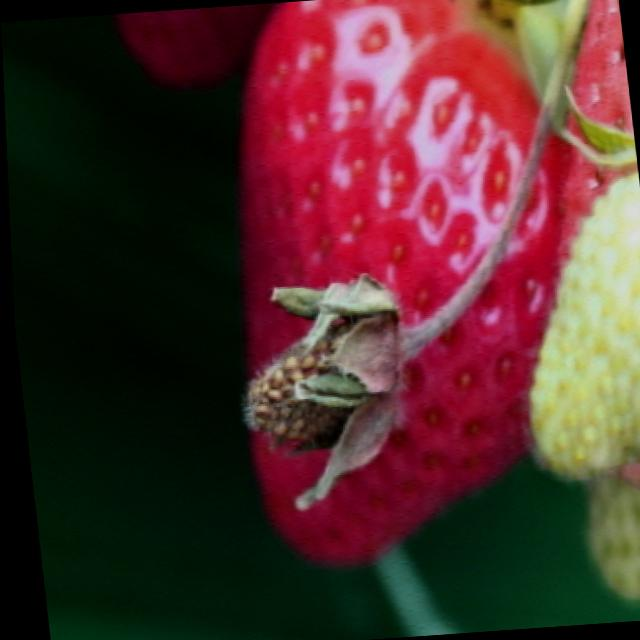Gray Mold: (235, 270, 459, 511)
